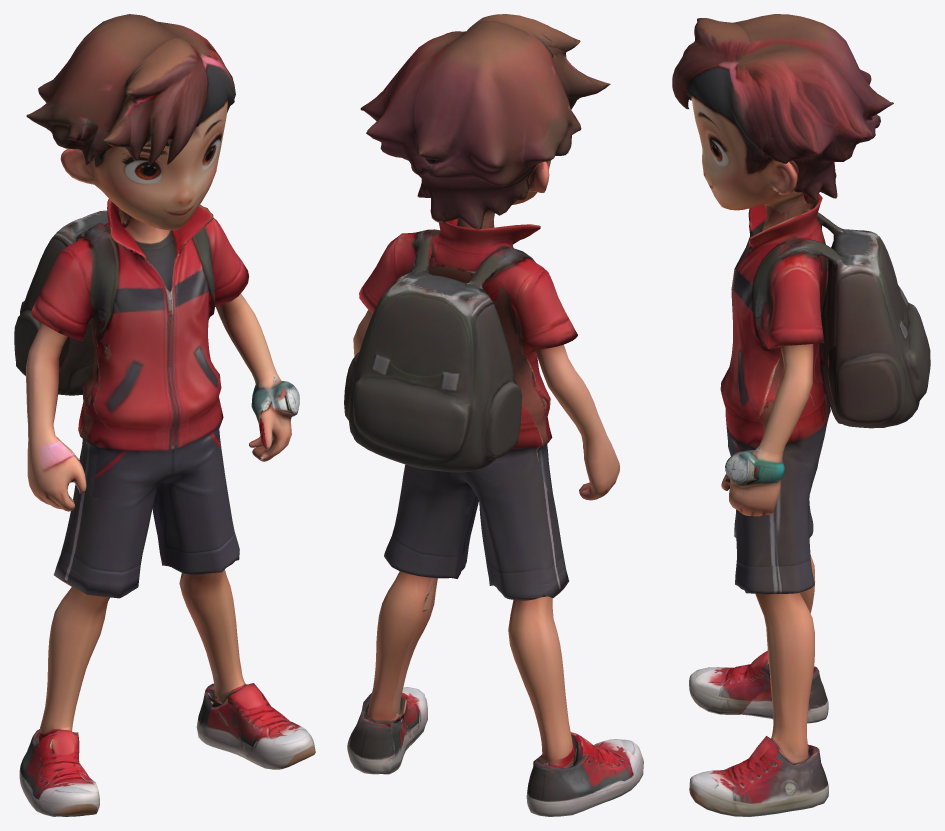
File: TCGPlayer_0522220307_texture.glb
3 views of the same model, side by side, from view 1: azimuth 30°, elevation 25°; view 2: azimuth 150°, elevation 25°; view 3: azimuth 270°, elevation 25° (orthographic).
Size of the model in its own units: 0.7575 by 2 by 0.6386.
Materials: 1 (1 with a texture image).
